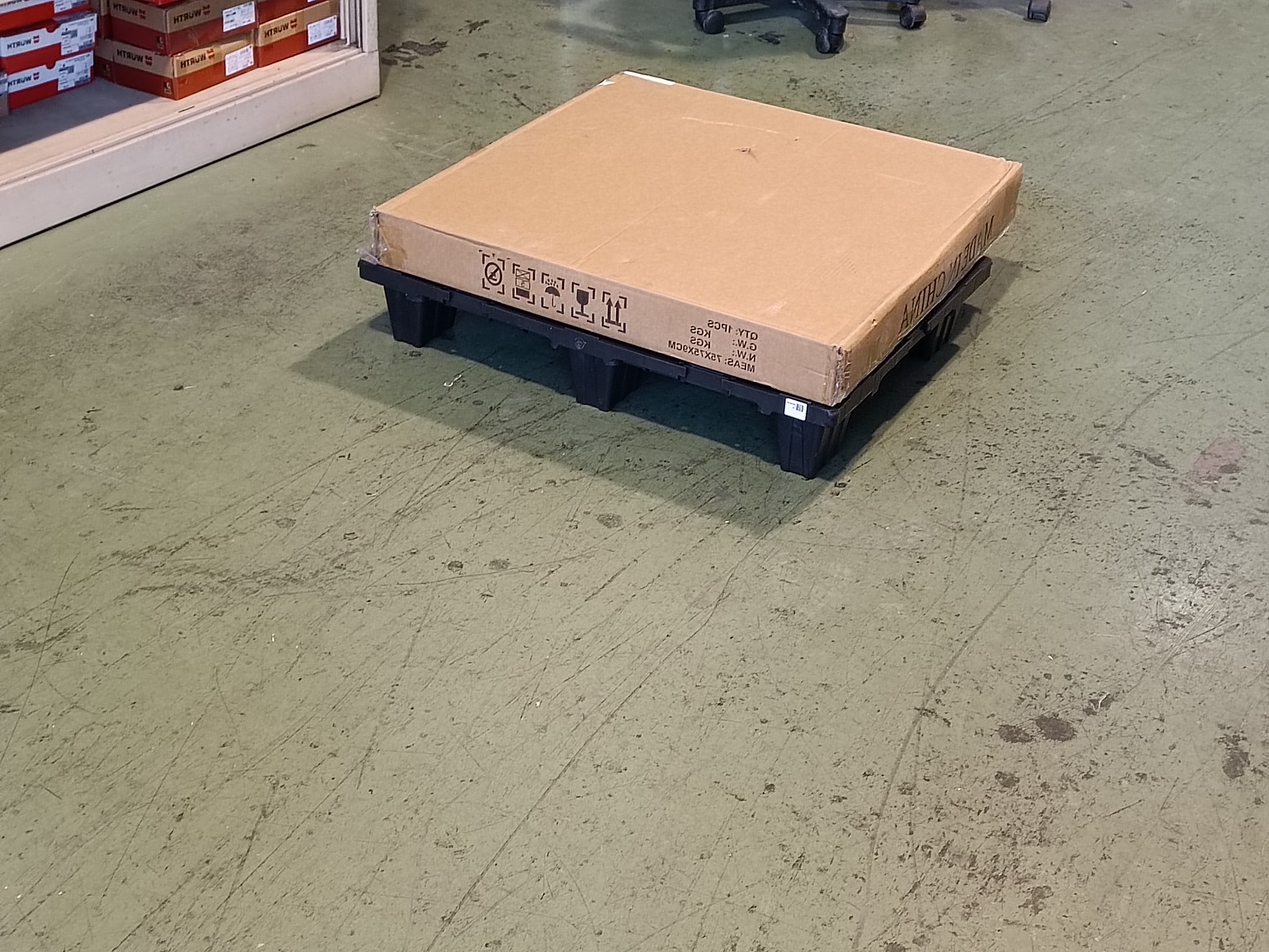block: (552, 340, 629, 416), (366, 273, 437, 354), (765, 407, 835, 489)
front: (346, 261, 834, 494)
hole pallet: (609, 362, 780, 464), (426, 294, 565, 395)
